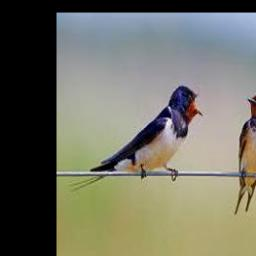Swallow: (69, 85, 205, 192), (236, 91, 256, 215)
